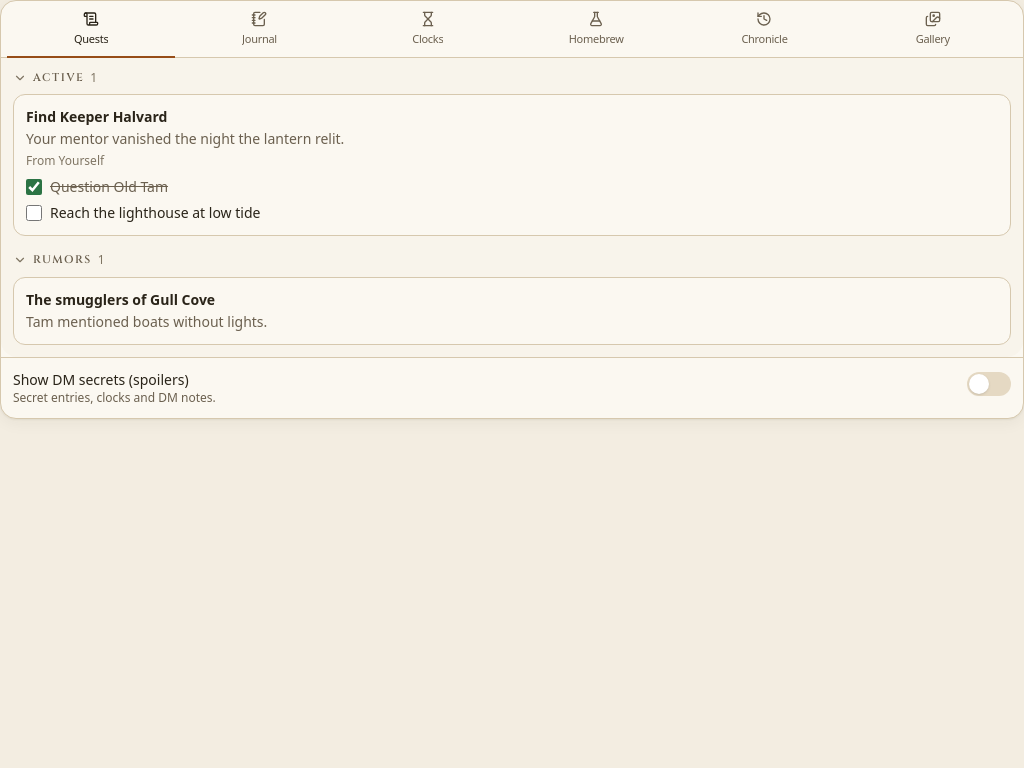
Test case: JournalPanel › says "Nothing matches" only for a filter that matches nothing
This screenshot has width=1024, height=768.
Click the tab "Journal" at (259,31), box [175,5,344,58]
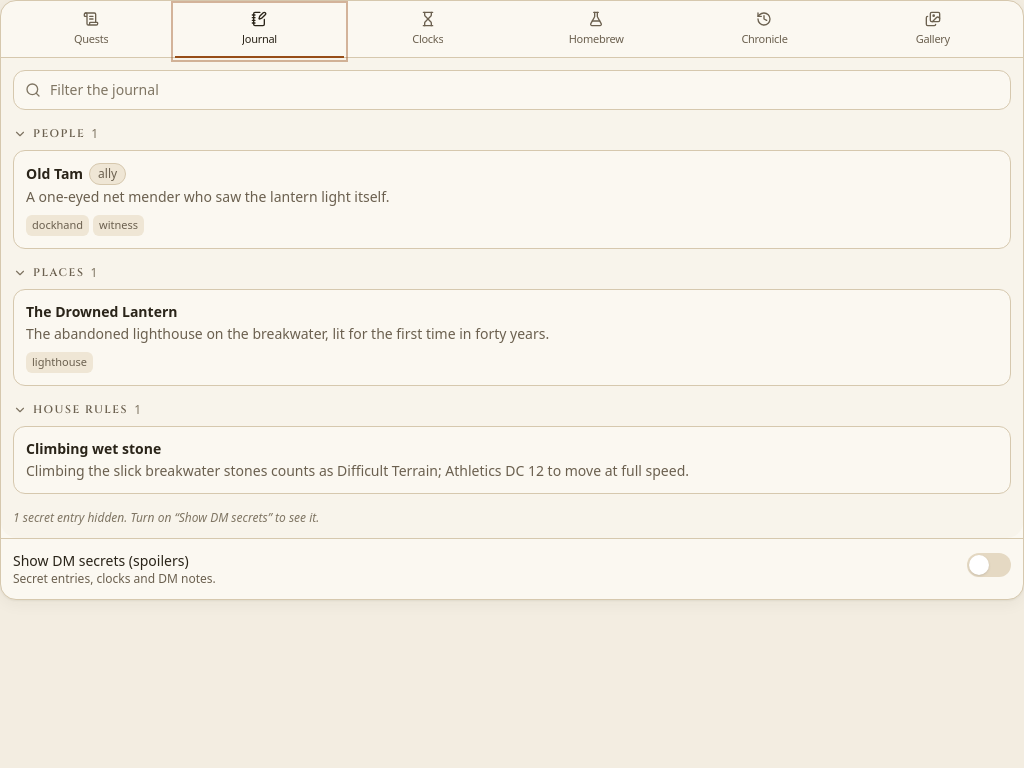
Type "kraken" into the search field labelled "Filter the journal" at (512,90), box [13,70,1011,110]
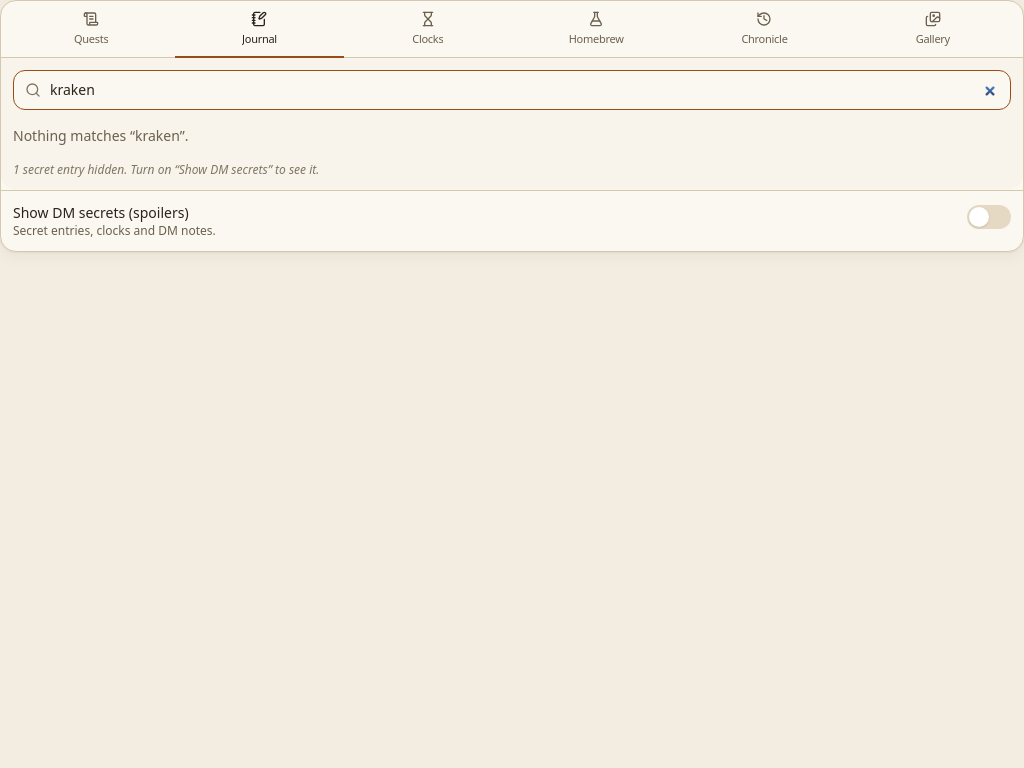
Result: the text "Nothing matches “kraken”." is shown at [13,126,188,144]
